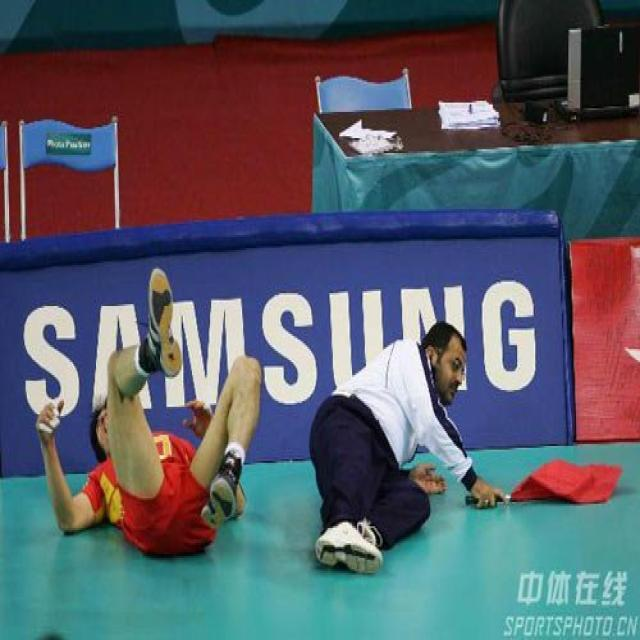down: (32, 260, 261, 566), (307, 309, 507, 576)
